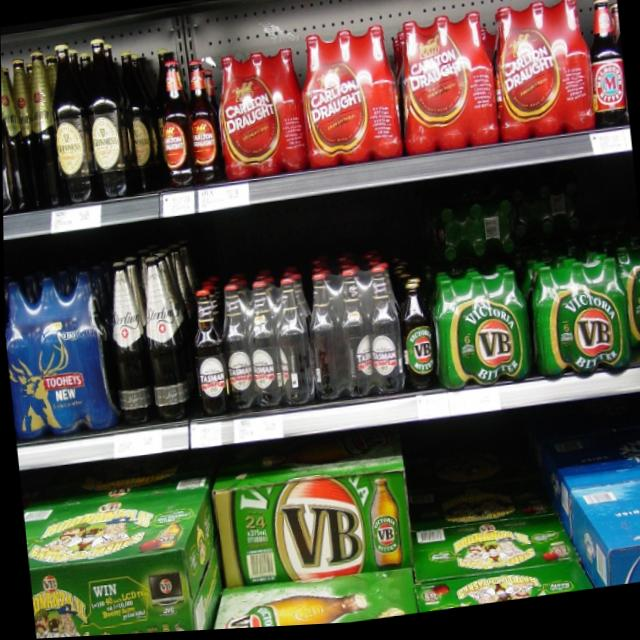q291: (524, 245, 630, 391), (427, 270, 532, 406)
